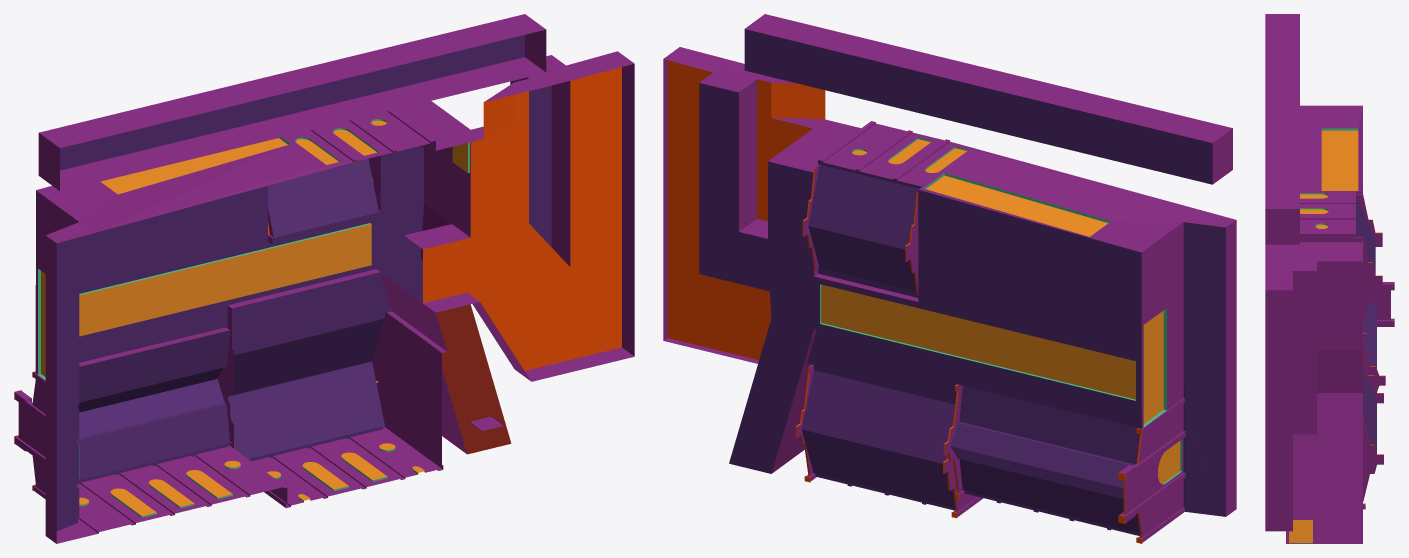
The model's file is Mazowieckie Centrum Sztuki Współczesnej „Elektrownia”.fbx.
The picture shows the model from 3 angles, left to right: view 1: azimuth 30°, elevation 25°; view 2: azimuth 150°, elevation 25°; view 3: azimuth 270°, elevation 25°; orthographic projection. The views are drawn at different scales.
Visible parts, largest first — view 1: Mazowieckie_Centrum; view 2: Mazowieckie_Centrum; view 3: Mazowieckie_Centrum.
Part boxes in pixels (x1,y1,x2,y2): Mazowieckie_Centrum: (14,14,634,543); Mazowieckie_Centrum: (663,14,1236,543); Mazowieckie_Centrum: (1265,14,1394,543).
Size of the model in its own units: 3.87 by 2.67 by 0.9142.
